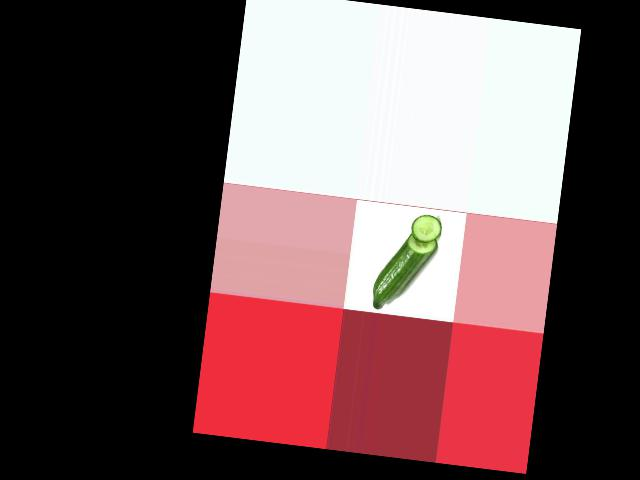cucumber: (371, 228, 438, 315)
